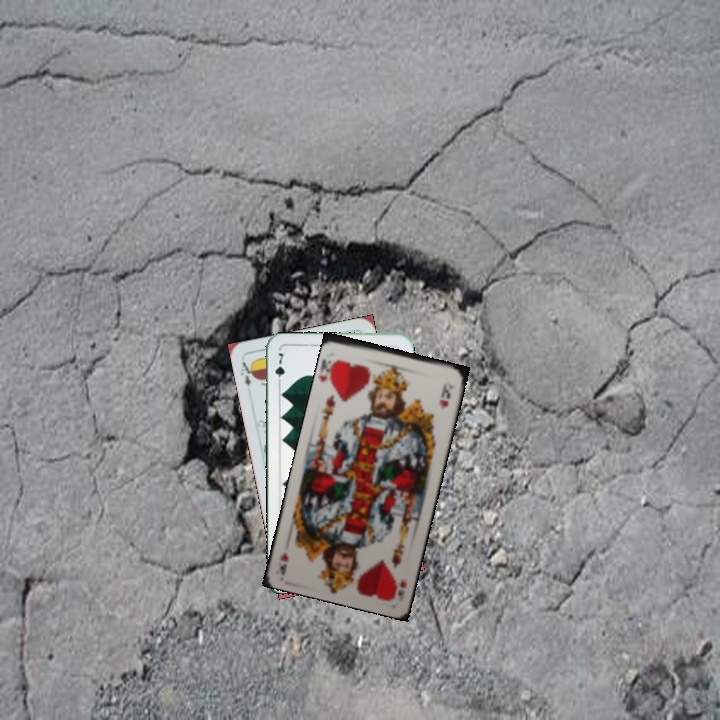EA: (236, 356, 258, 389)
G7: (271, 349, 287, 388)
HK: (318, 355, 342, 391), (394, 574, 409, 602)
